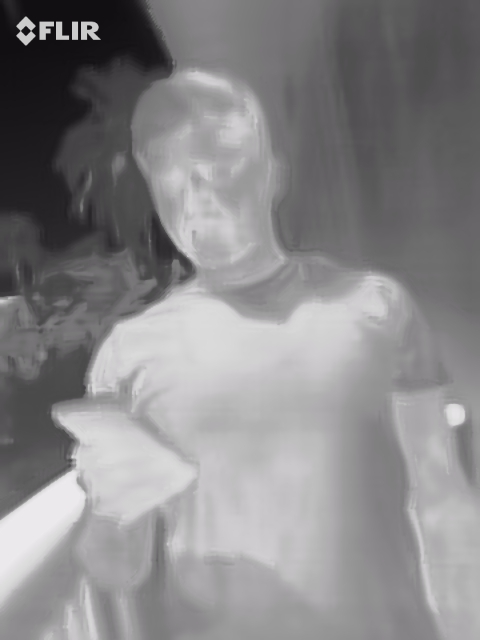head: (132, 77, 279, 267)
